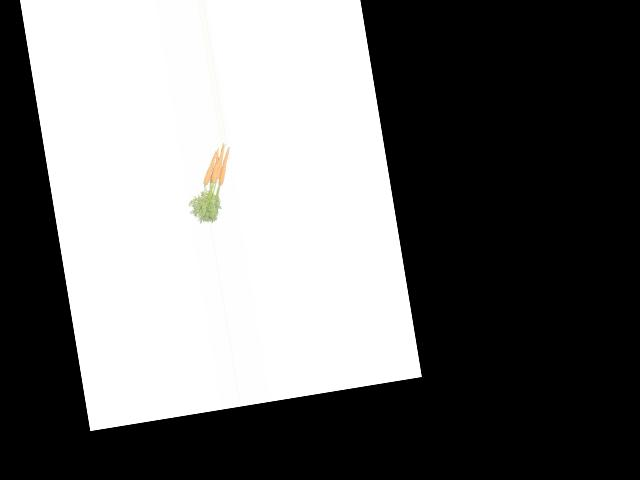carrot: (211, 144, 239, 187)
